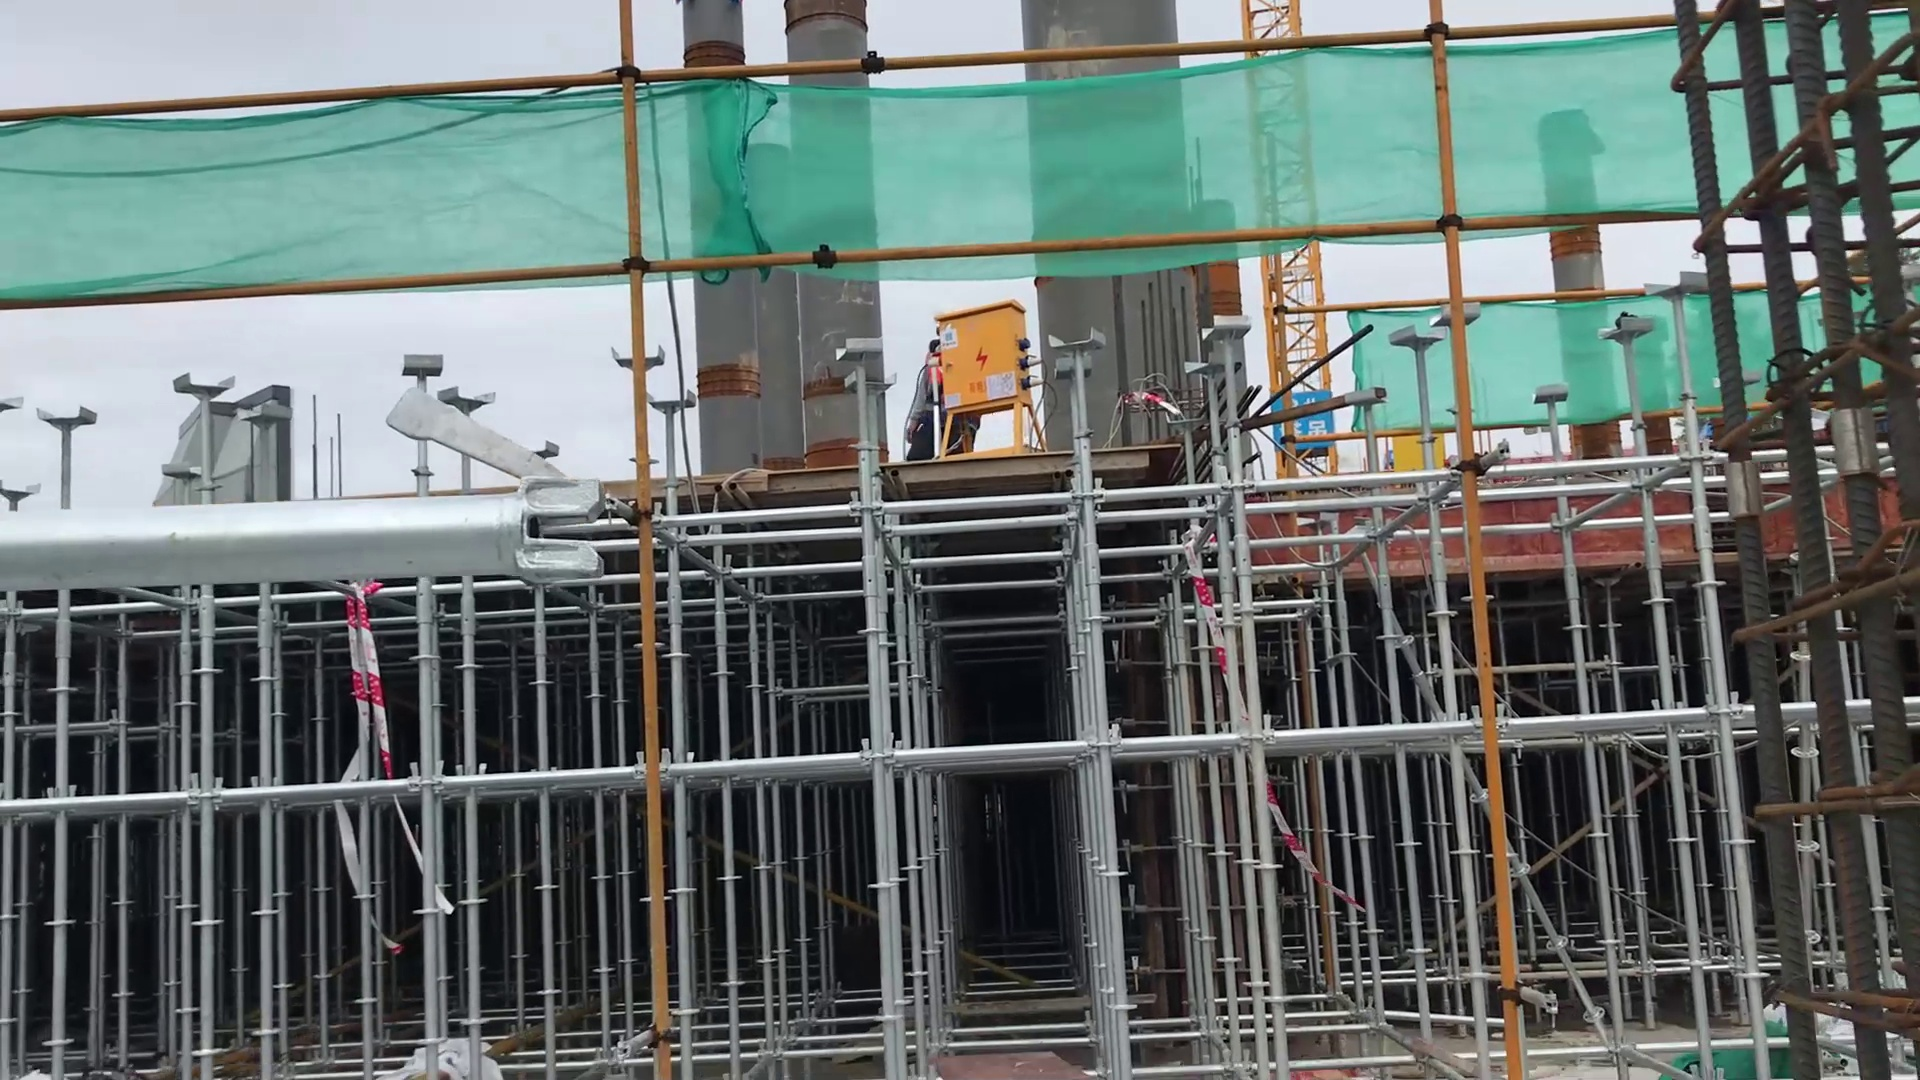ebox: (934, 294, 1047, 462)
